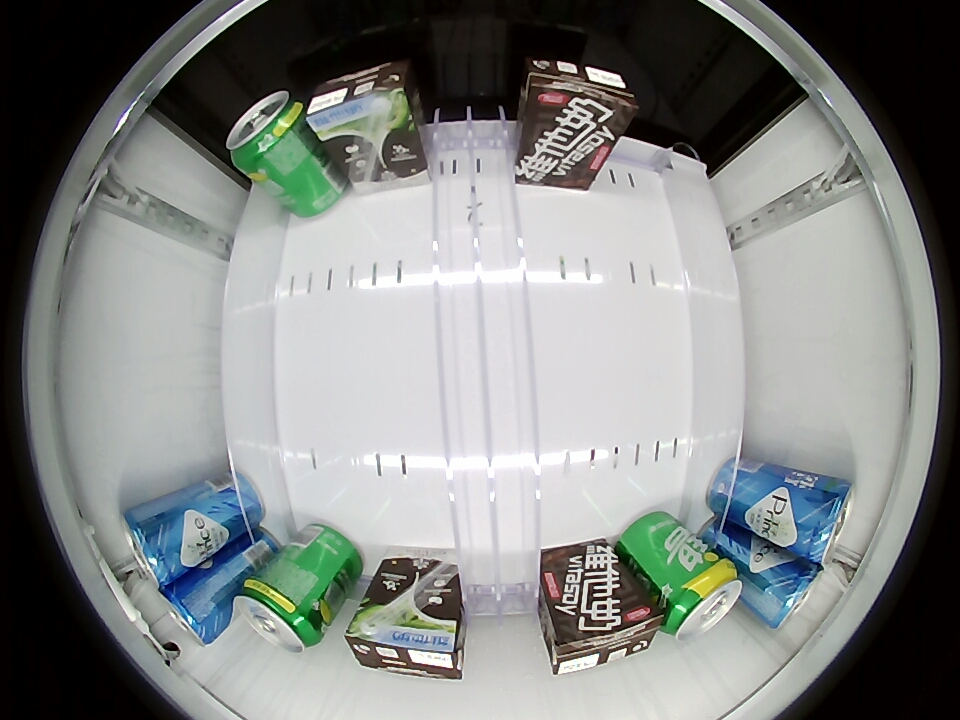qingdaowangzi-2: (791, 477, 855, 564), (122, 505, 186, 587), (753, 556, 824, 629), (157, 576, 231, 645)
weitanai2: (547, 589, 662, 676), (520, 59, 637, 142), (305, 62, 416, 142), (344, 608, 465, 679)
xuebi2: (234, 576, 326, 653), (226, 89, 310, 172), (659, 559, 743, 640)
